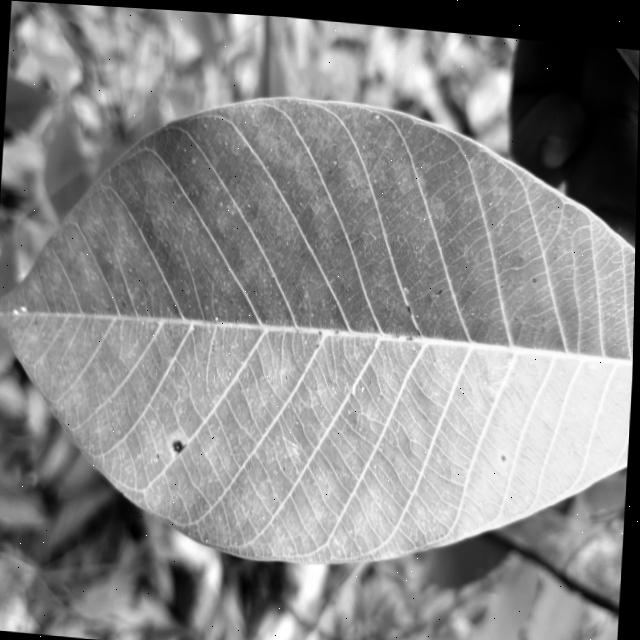Colletotrichum: (175, 438, 185, 449)
